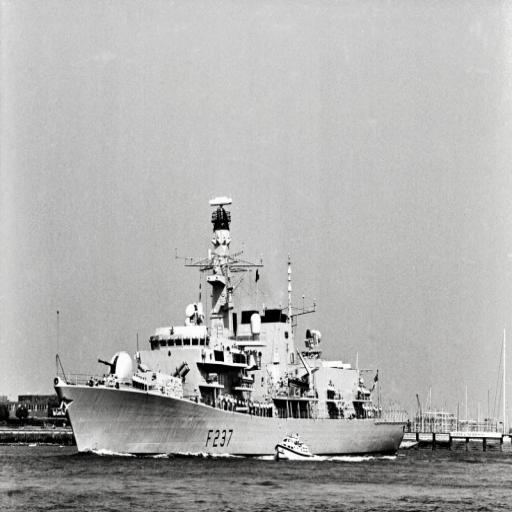Fragata: (51, 184, 412, 467)
